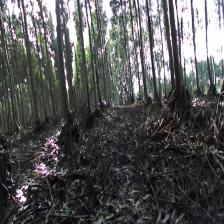trunk: (55, 4, 75, 127), (169, 4, 185, 104), (25, 28, 41, 124), (78, 15, 92, 113), (146, 7, 158, 98)
